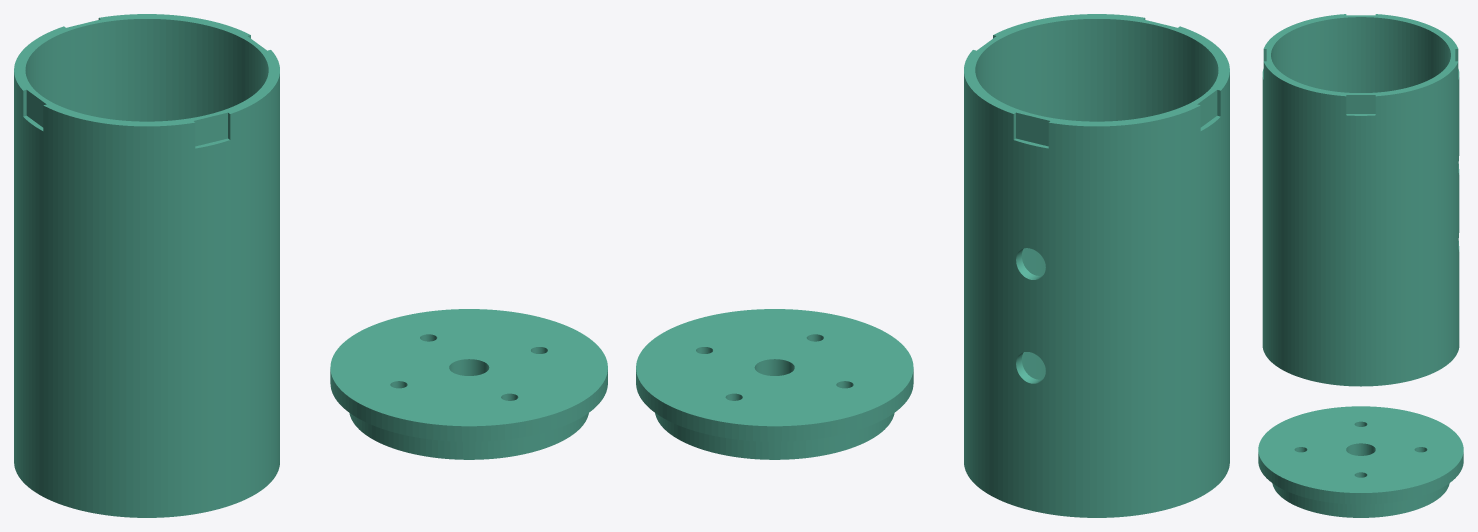
Rendered from calorimetro.glb.
3 renders of one model, left to right at view 1: azimuth 30°, elevation 25°; view 2: azimuth 150°, elevation 25°; view 3: azimuth 270°, elevation 25°, orthographic. The views are drawn at different scales.
Parts seen in each view (by area): view 1: calorimetro; view 2: calorimetro; view 3: calorimetro.
Boxes of the visible parts, x1,y1,x2,y2 form: calorimetro: [14, 14, 607, 517]; calorimetro: [636, 14, 1229, 517]; calorimetro: [1258, 14, 1463, 517].
Bounding box in the file's own units: 0.225 × 0.161 × 0.097.
